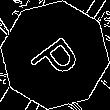P_NE: (24, 25, 86, 85)
